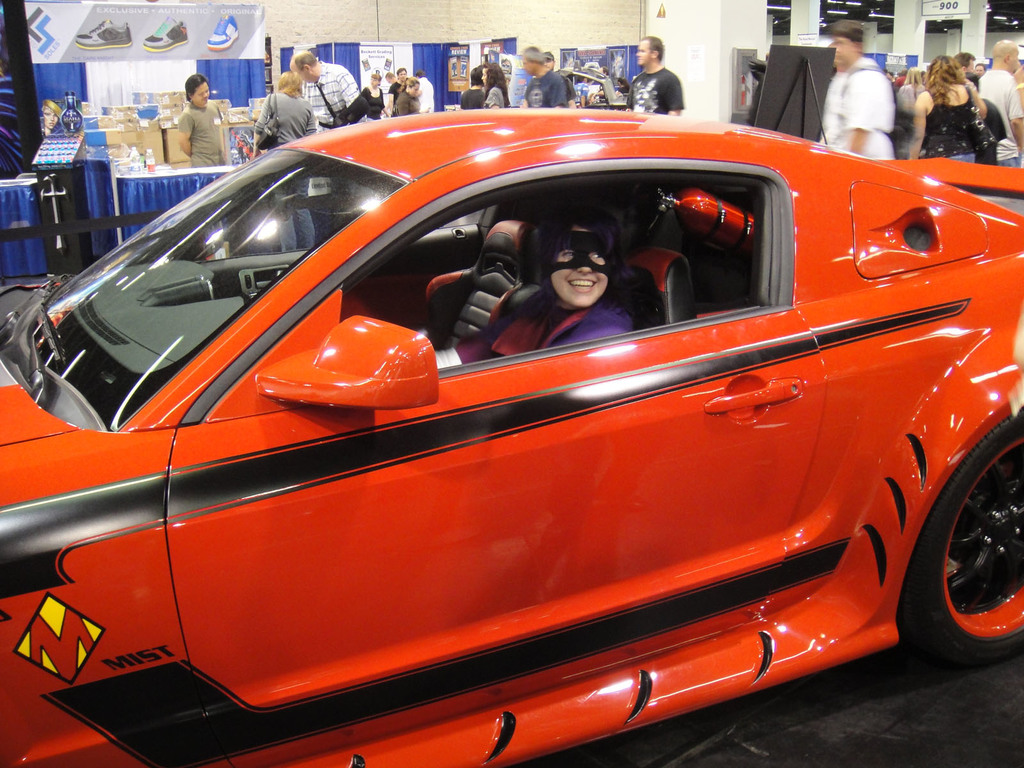Person: (187, 10, 1018, 167), (428, 200, 645, 359)
